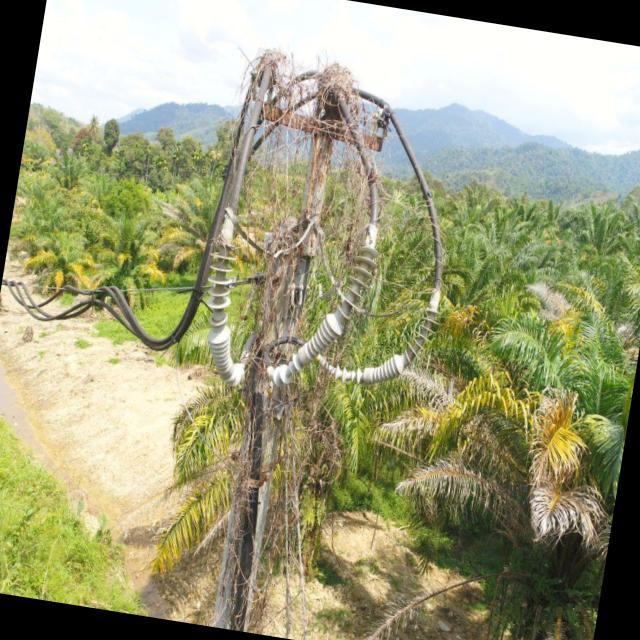critical vegetation: (150, 36, 418, 617)
